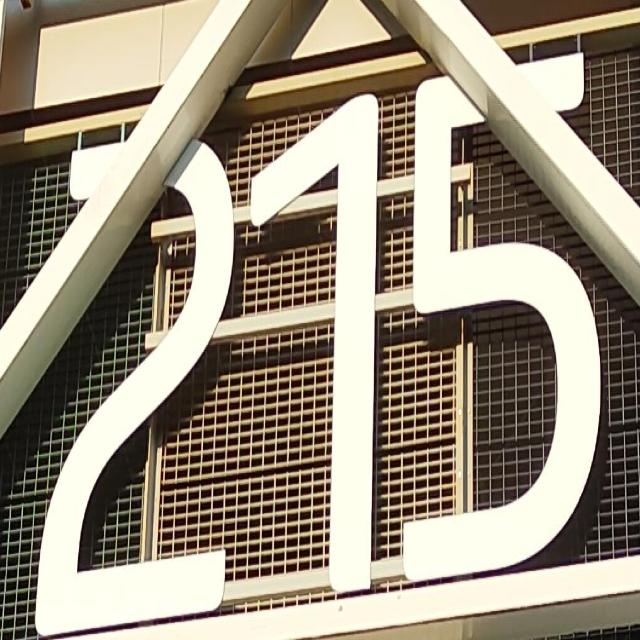character: (397, 50, 608, 590), (31, 133, 237, 639), (248, 85, 385, 602)
